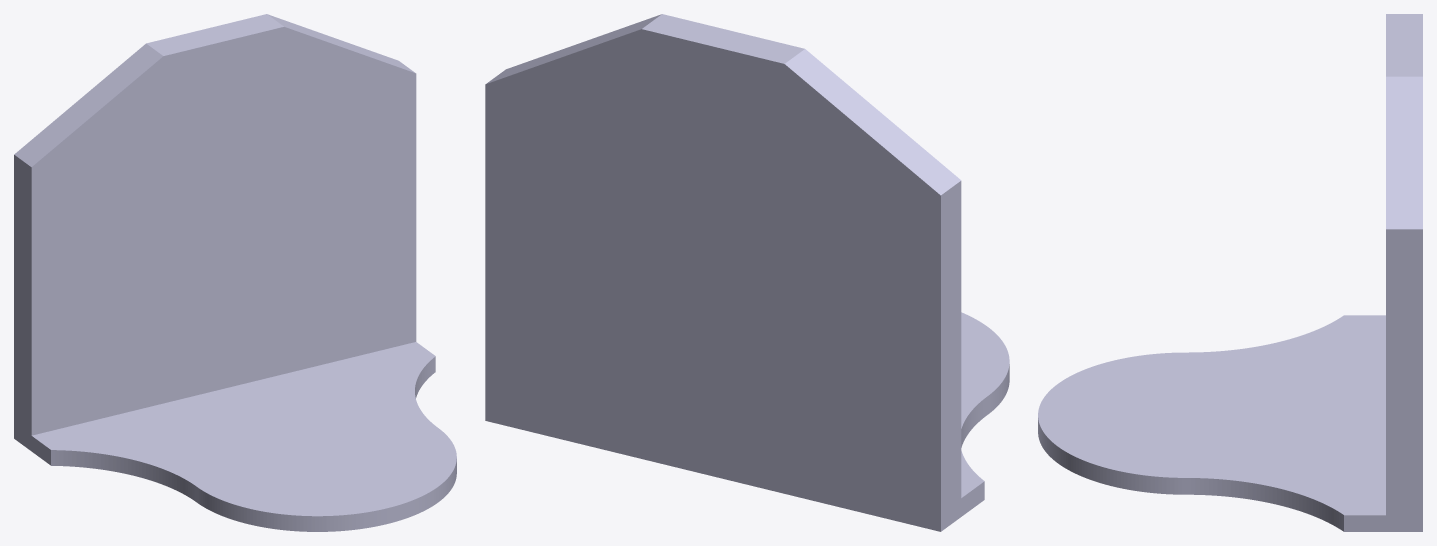
File: AXIS_5.dae
3 renders of one model, left to right at view 1: azimuth 30°, elevation 25°; view 2: azimuth 150°, elevation 25°; view 3: azimuth 270°, elevation 25°, orthographic. The views are drawn at different scales.
Parts seen in each view (by area): view 1: node0; view 2: node0; view 3: node0.
Boxes of the visible parts, box(x1,y1,x2,y2) form: node0: box(14, 14, 456, 531); node0: box(485, 14, 1009, 531); node0: box(1038, 14, 1422, 531).
Bounding box in the file's own units: 0.051 × 0.0415 × 0.046.
